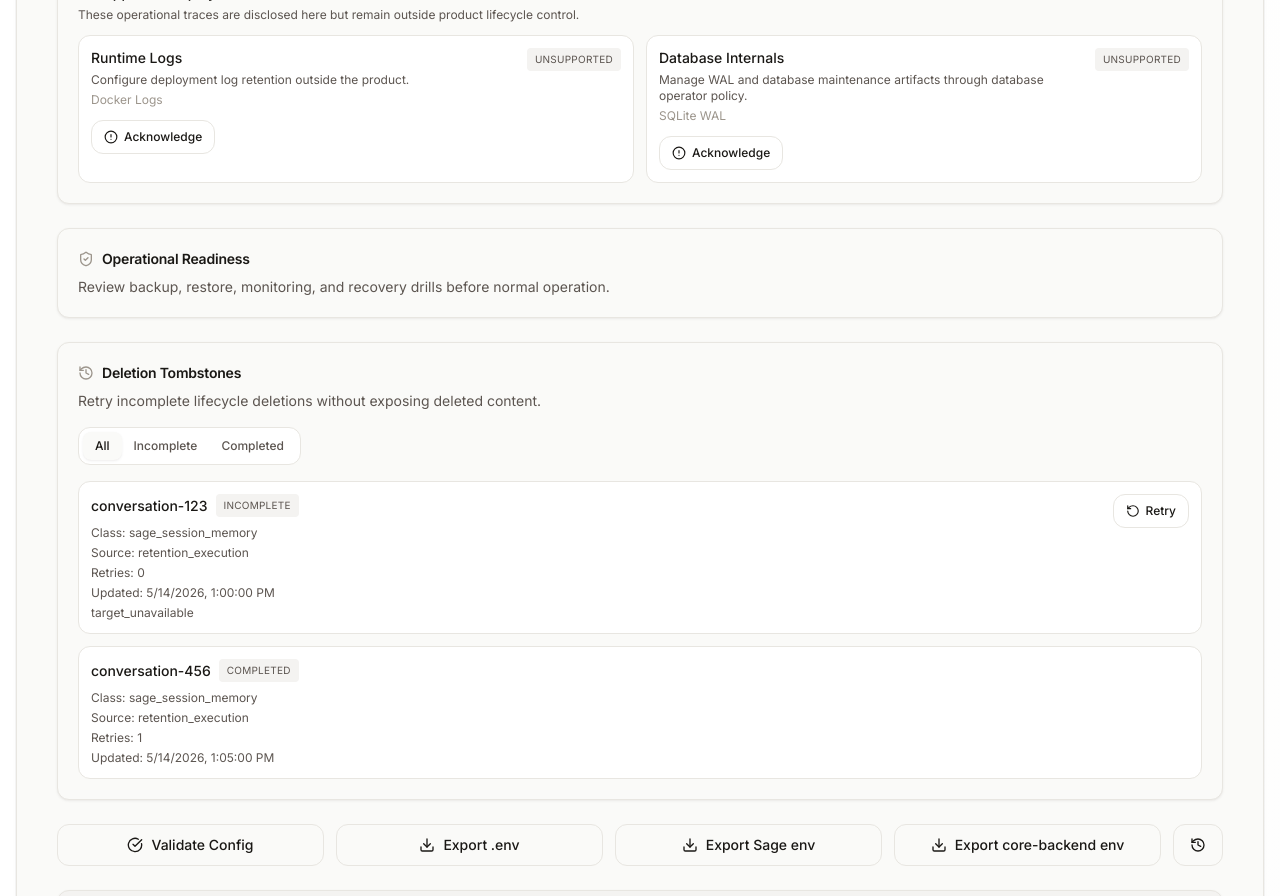
Test: AdminDeploymentConfig › filters deletion tombstones by lifecycle status
This screenshot has width=1280, height=896.
(page scrolled)
Expected: the text "conversation-123" is shown, [91, 496, 208, 516]
Expected: the text "conversation-456" is shown, [91, 660, 211, 680]
Click the button with aria-label "Completed tombstones".
click(253, 446)  # box [209, 432, 296, 460]
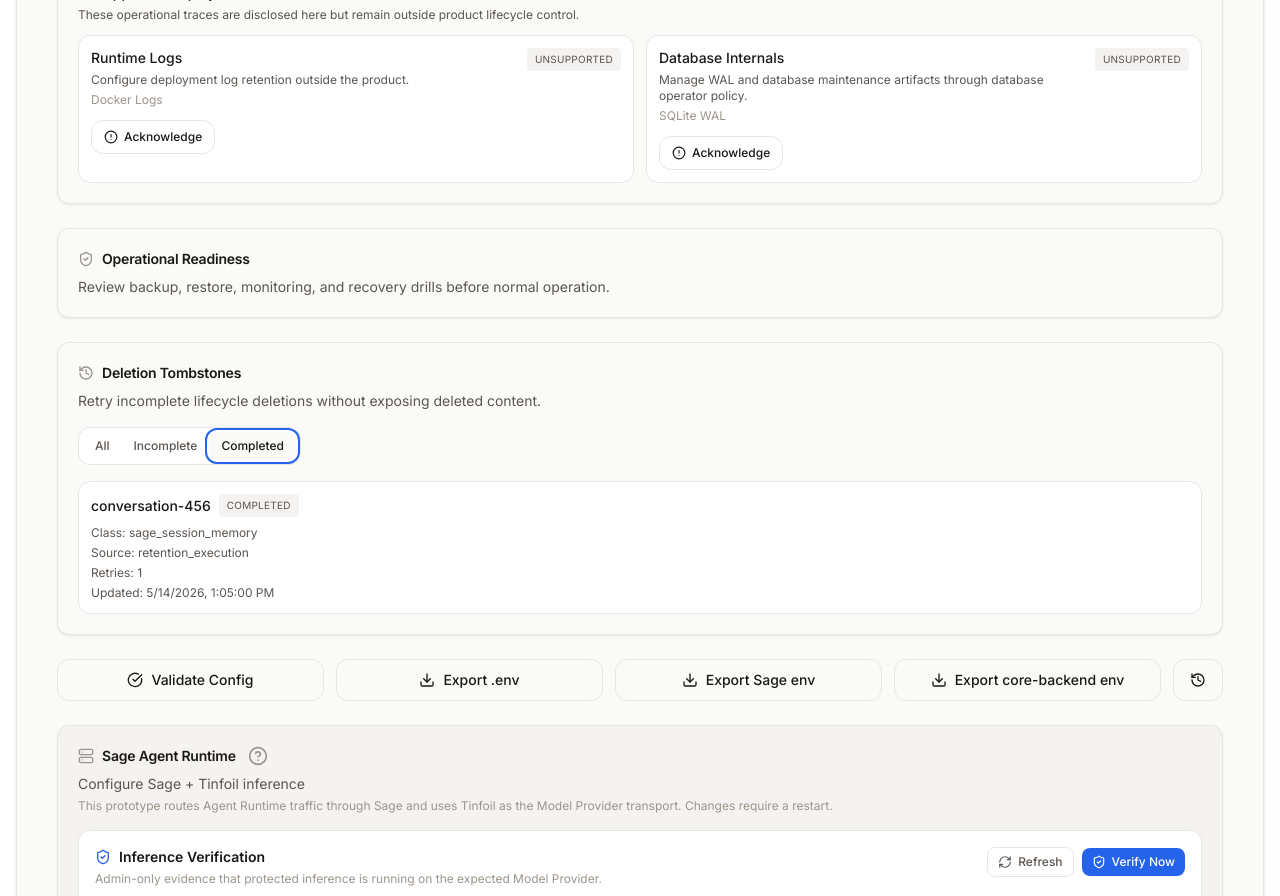
Expected: the text "conversation-456" is shown, [91, 496, 211, 516]
Now the text "conversation-123" is gone
